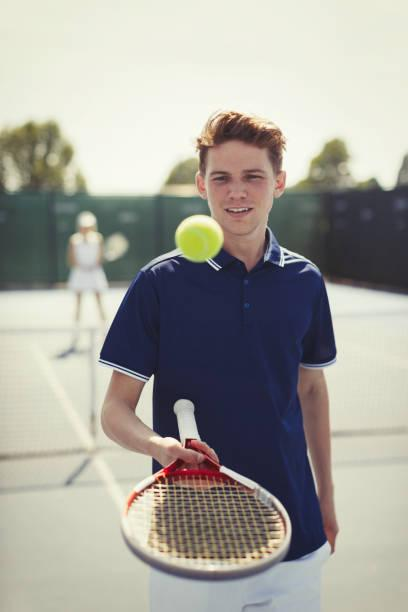ball_tennis: (175, 214, 228, 262)
